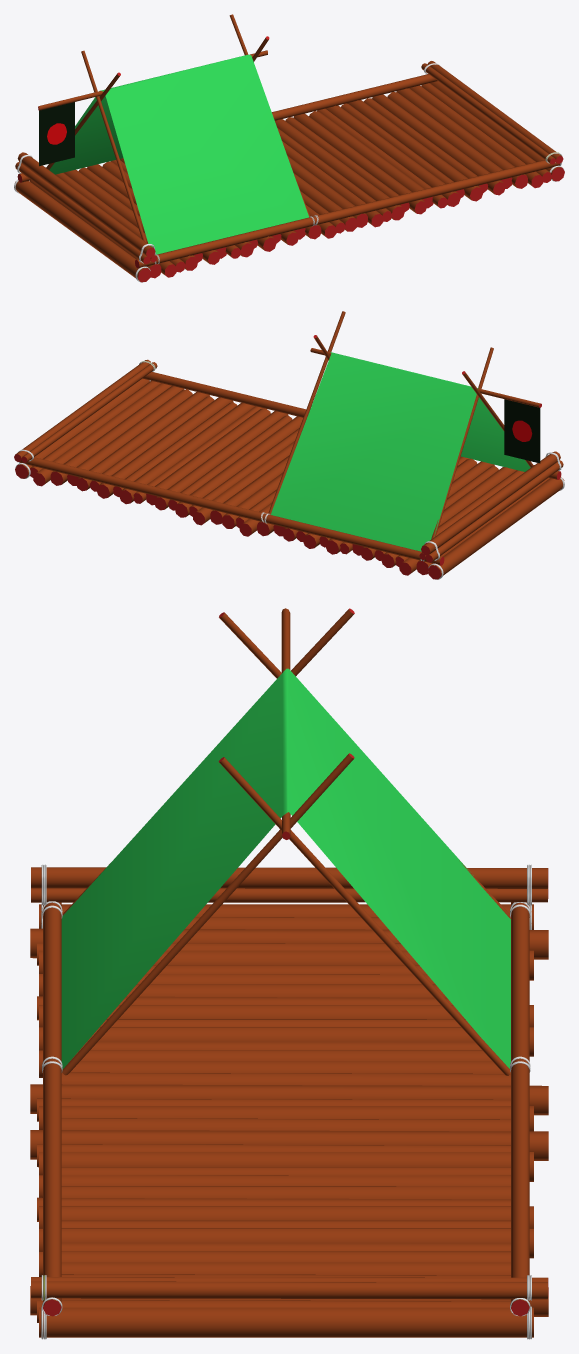
Rendered from raft_NOT_low_poly.fbx.
3 renders of one model, top to bottom at view 1: azimuth 30°, elevation 25°; view 2: azimuth 150°, elevation 25°; view 3: azimuth 270°, elevation 25°, orthographic. The views are drawn at different scales.
Visible parts, largest first — view 1: Cylinder001, Plane001, Flag, Cylinder050; view 2: Cylinder001, Plane001, Cylinder050, Flag; view 3: Cylinder001, Plane001, Cylinder050.
Boxes of the visible parts, x1,y1,x2,y2 form: Cylinder001: [15, 61, 564, 282]; Plane001: [49, 54, 308, 254]; Flag: [39, 102, 74, 166]; Cylinder050: [38, 14, 310, 242]; Cylinder001: [14, 359, 564, 579]; Plane001: [271, 352, 530, 551]; Cylinder050: [268, 311, 541, 539]; Flag: [504, 399, 540, 463]; Cylinder001: [30, 867, 548, 1337]; Plane001: [61, 668, 510, 1068]; Cylinder050: [62, 608, 510, 1075].
Bounding box in the file's own units: 542 × 191 × 262.
